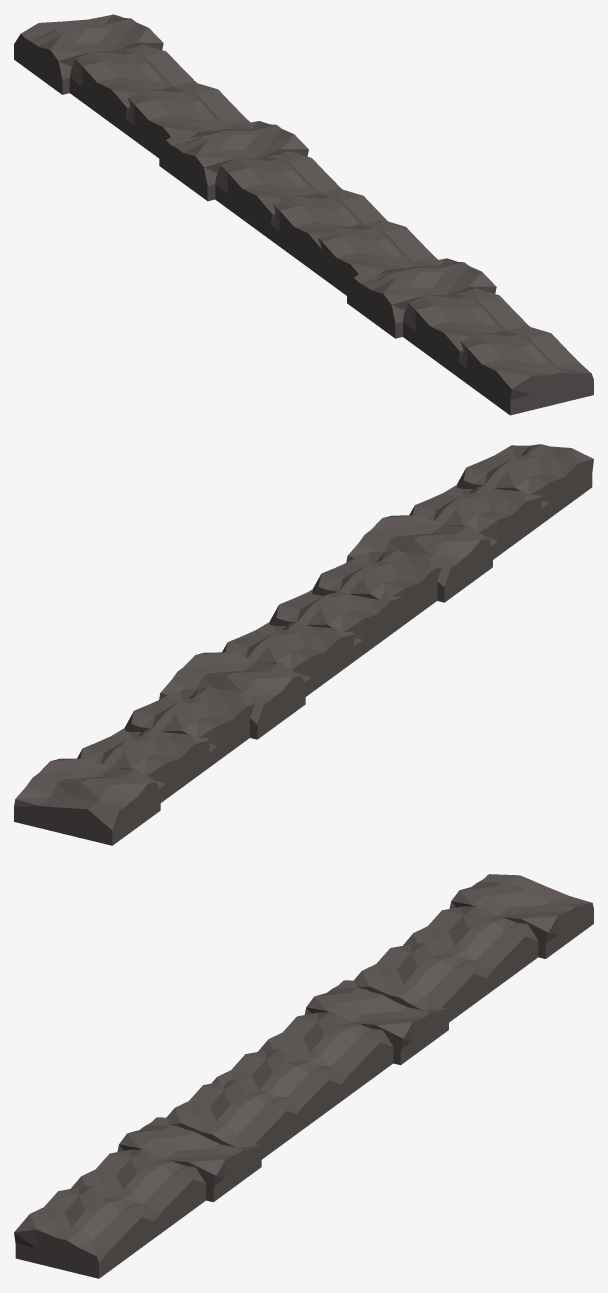
The model's file is stage_stone.obj.
3 renders of one model, top to bottom at view 1: azimuth 30°, elevation 25°; view 2: azimuth 150°, elevation 25°; view 3: azimuth 330°, elevation 25°, orthographic.
Parts seen in each view (by area): view 1: 立方体.011; view 2: 立方体.011; view 3: 立方体.011.
Part boxes in pixels (<box>): 立方体.011: <box>14,14,593,415</box>; 立方体.011: <box>14,444,593,845</box>; 立方体.011: <box>14,874,593,1278</box>.
Bounding box in the file's own units: 2.9 × 1.02 × 24.31.
